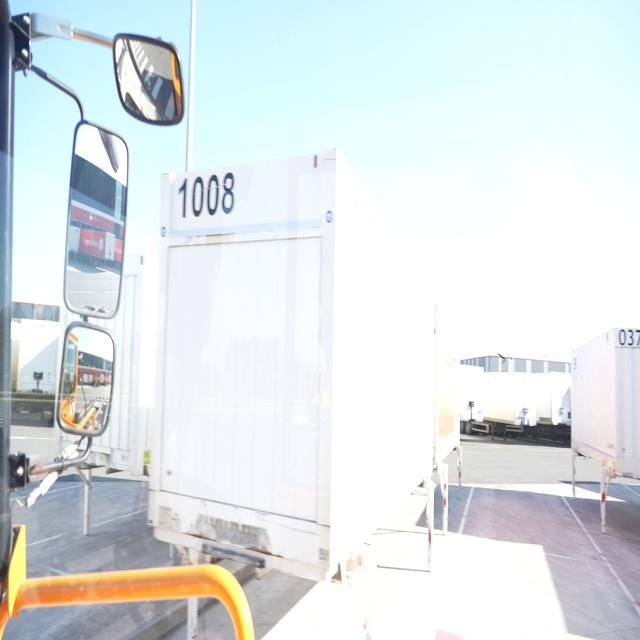Code: (175, 168, 240, 230)
